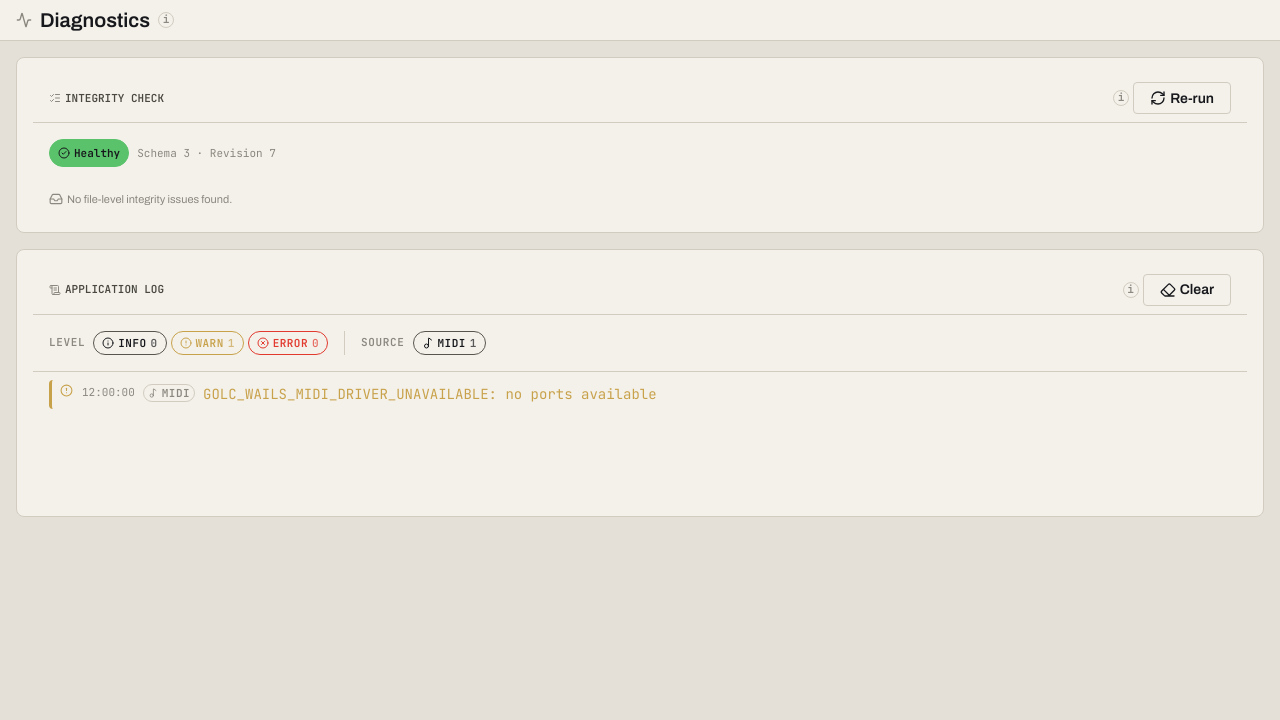
DiagnosticsWorkspace › accumulates further app:log lines appended to the store while mounted, and Clear empties the store
Check: the text "Healthy" is shown, box [49, 139, 129, 167]
Check: the text "GOLC_WAILS_MIDI_DRIVER_UNAVAILABLE: no ports available" is shown, box [203, 384, 657, 402]
Click the button "Clear": (1187, 290) [1143, 274, 1231, 306]
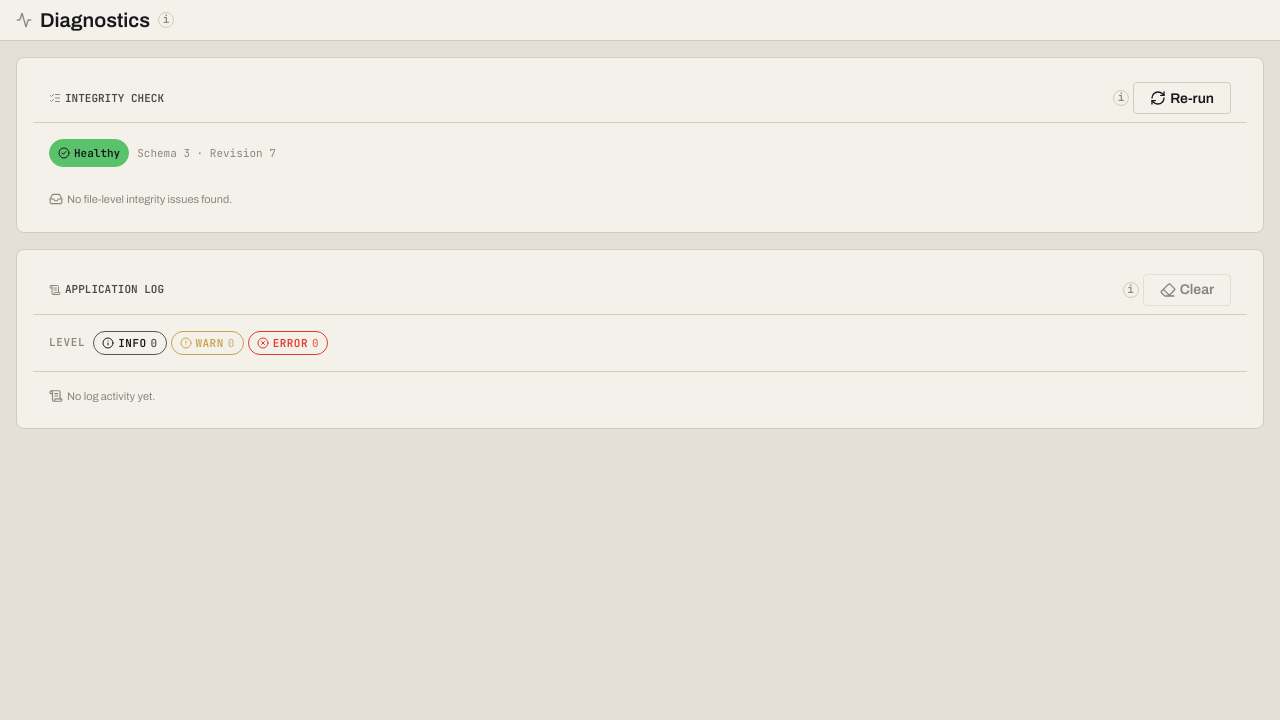
Check: the text "No log activity yet." is shown, box [49, 389, 155, 403]
